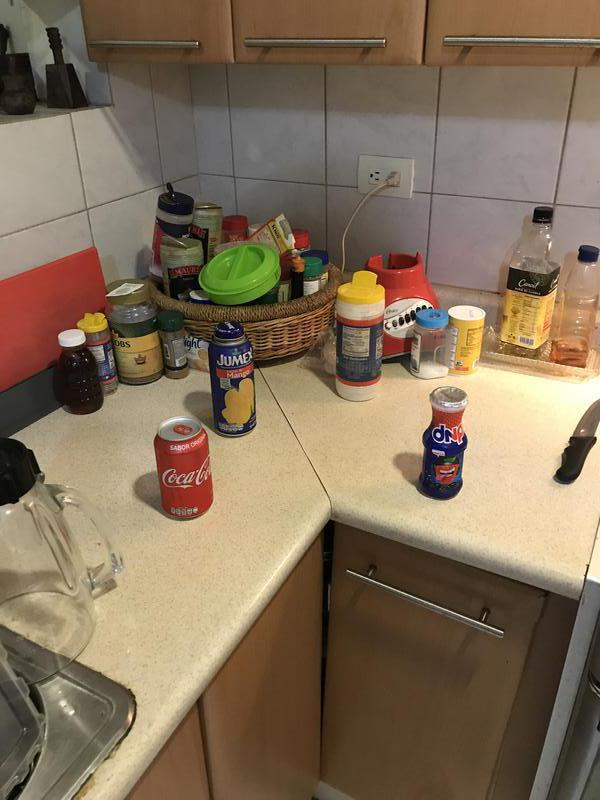coca_cola: (152, 420, 216, 522)
danup: (421, 385, 467, 498)
jugo_jumex: (205, 323, 260, 437)
